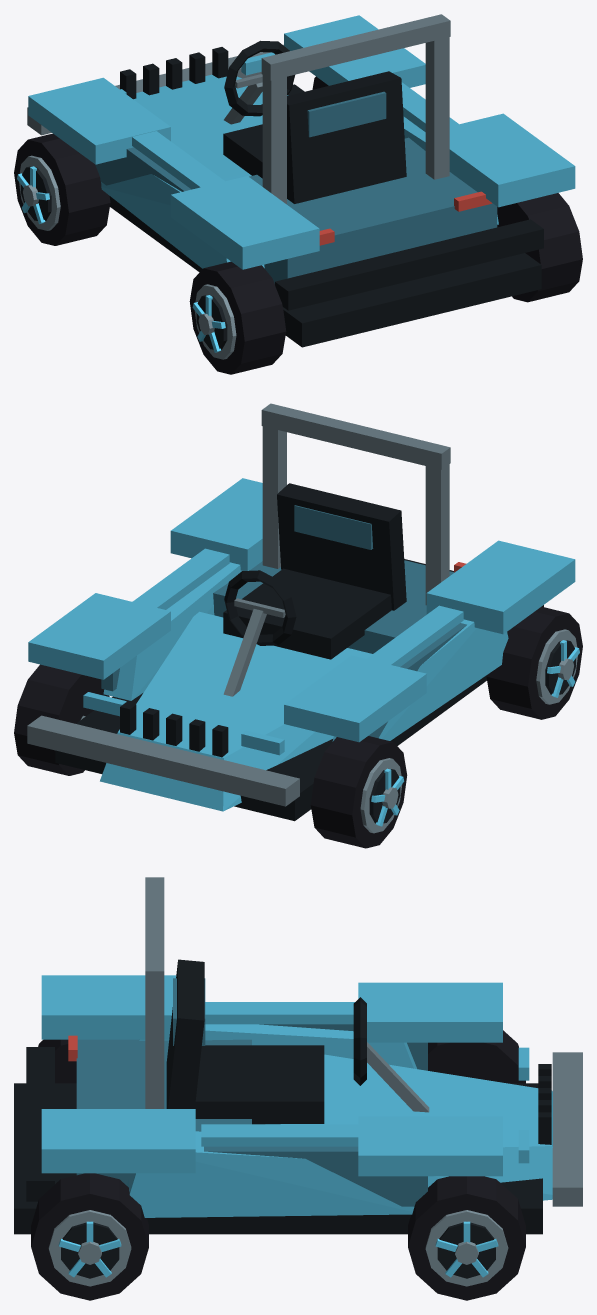
Rendered from kart.glb.
The picture shows the model from 3 angles, top to bottom: view 1: azimuth 30°, elevation 25°; view 2: azimuth 150°, elevation 25°; view 3: azimuth 270°, elevation 25°; orthographic projection. The views are drawn at different scales.
Visible parts, largest first — view 1: chassis, wheel-rear-left, wheel-front-left, wheel-rear-right; view 2: chassis, wheel-front-left, wheel-rear-left, wheel-front-right; view 3: chassis, wheel-rear-right, wheel-front-right, wheel-front-left, wheel-rear-left.
Part boxes in pixels (left/top/right/bottom): chassis: left=27, top=14, right=575, bottom=347; wheel-rear-left: left=189, top=261, right=286, bottom=374; wheel-front-left: left=14, top=133, right=110, bottom=245; wheel-rear-right: left=497, top=193, right=582, bottom=302; chassis: left=27, top=403, right=575, bottom=821; wheel-front-left: left=310, top=736, right=407, bottom=848; wheel-rear-left: left=486, top=606, right=582, bottom=719; wheel-front-right: left=14, top=664, right=109, bottom=775; chassis: left=14, top=877, right=582, bottom=1234; wheel-rear-right: left=31, top=1173, right=148, bottom=1300; wheel-front-right: left=408, top=1176, right=525, bottom=1300; wheel-front-left: left=428, top=1030, right=525, bottom=1083; wheel-rear-left: left=38, top=1039, right=76, bottom=1083.
Bounding box in the file's own units: 2.37 × 1.67 × 2.99.
